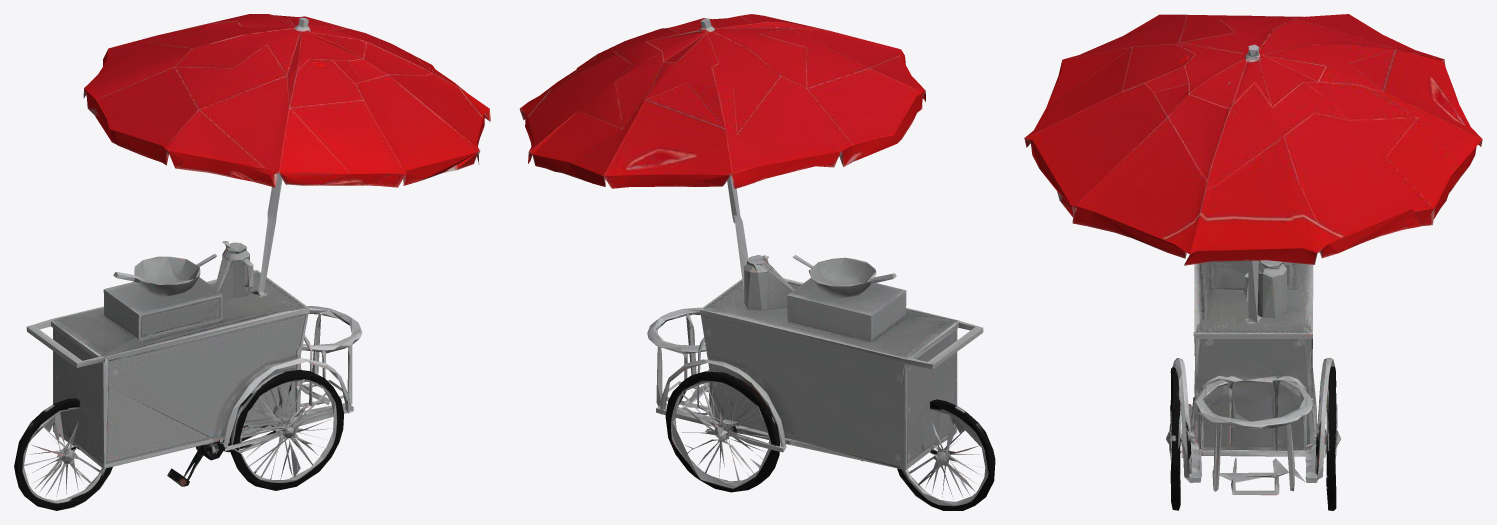
Rendered from food_cart.glb.
3 renders of one model, left to right at view 1: azimuth 30°, elevation 25°; view 2: azimuth 150°, elevation 25°; view 3: azimuth 270°, elevation 25°, orthographic. The views are drawn at different scales.
Visible parts, largest first — view 1: food_cart; view 2: food_cart; view 3: food_cart.
Boxes of the visible parts, <box> form: food_cart: <box>14,14,490,510</box>; food_cart: <box>519,14,995,510</box>; food_cart: <box>1024,14,1482,510</box>.
Bounding box in the file's own units: 2.6 × 2.4 × 2.05.
1 material, 1 textured.
